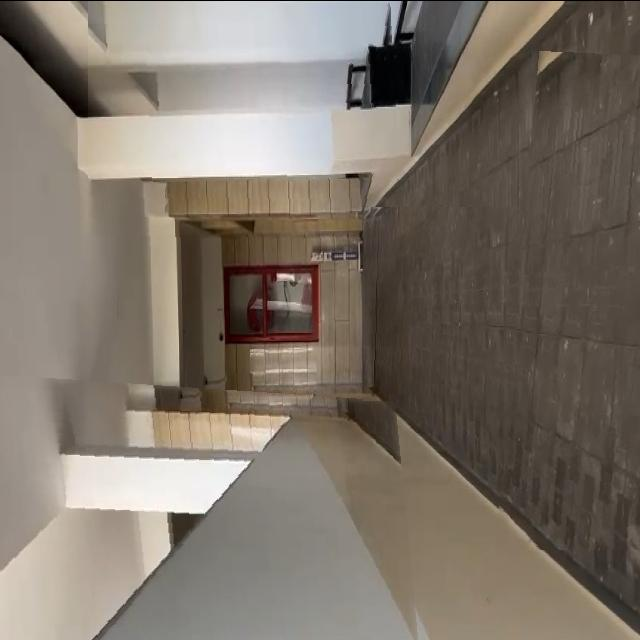floor: (495, 50, 640, 549), (363, 206, 519, 400)
wall: (0, 372, 421, 640), (88, 0, 403, 245)
